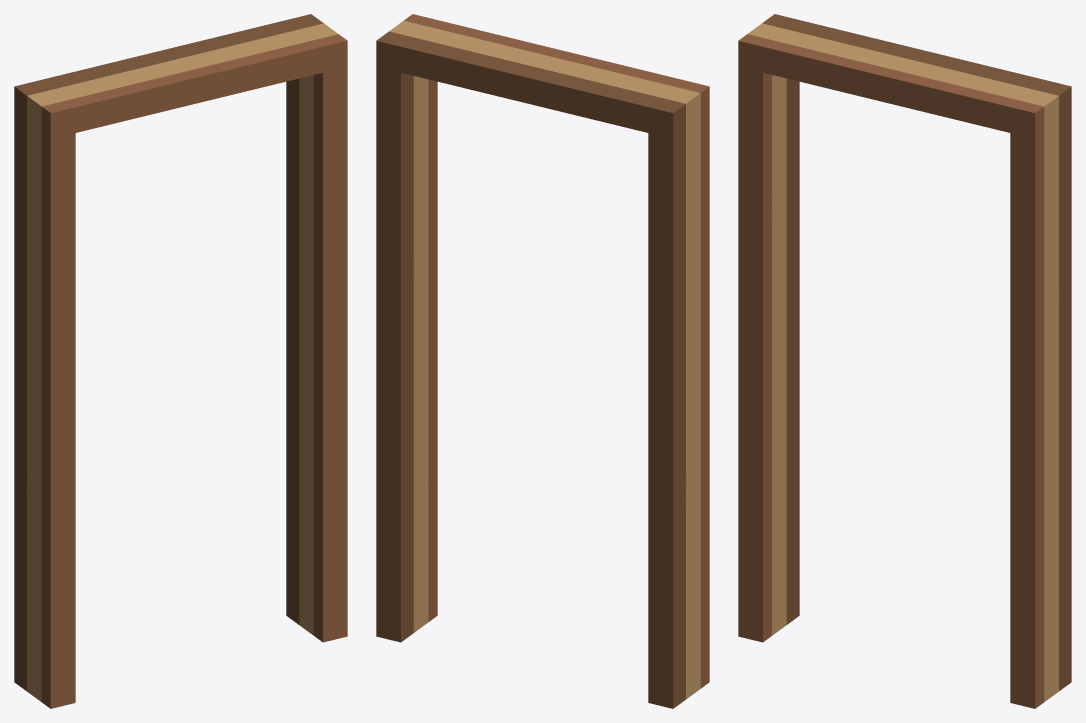
Rendered from DBK_Trim_Door.fbx.
3 views of the same model, side by side, from view 1: azimuth 30°, elevation 25°; view 2: azimuth 150°, elevation 25°; view 3: azimuth 330°, elevation 25° (orthographic).
Visible parts, largest first — view 1: DBK_Trim_Door; view 2: DBK_Trim_Door; view 3: DBK_Trim_Door.
Boxes of the visible parts, x1,y1,x2,y2 form: DBK_Trim_Door: (14, 14, 347, 708); DBK_Trim_Door: (376, 14, 709, 708); DBK_Trim_Door: (738, 14, 1071, 708).
Size of the model in its own units: 120 by 230 by 25.59.
